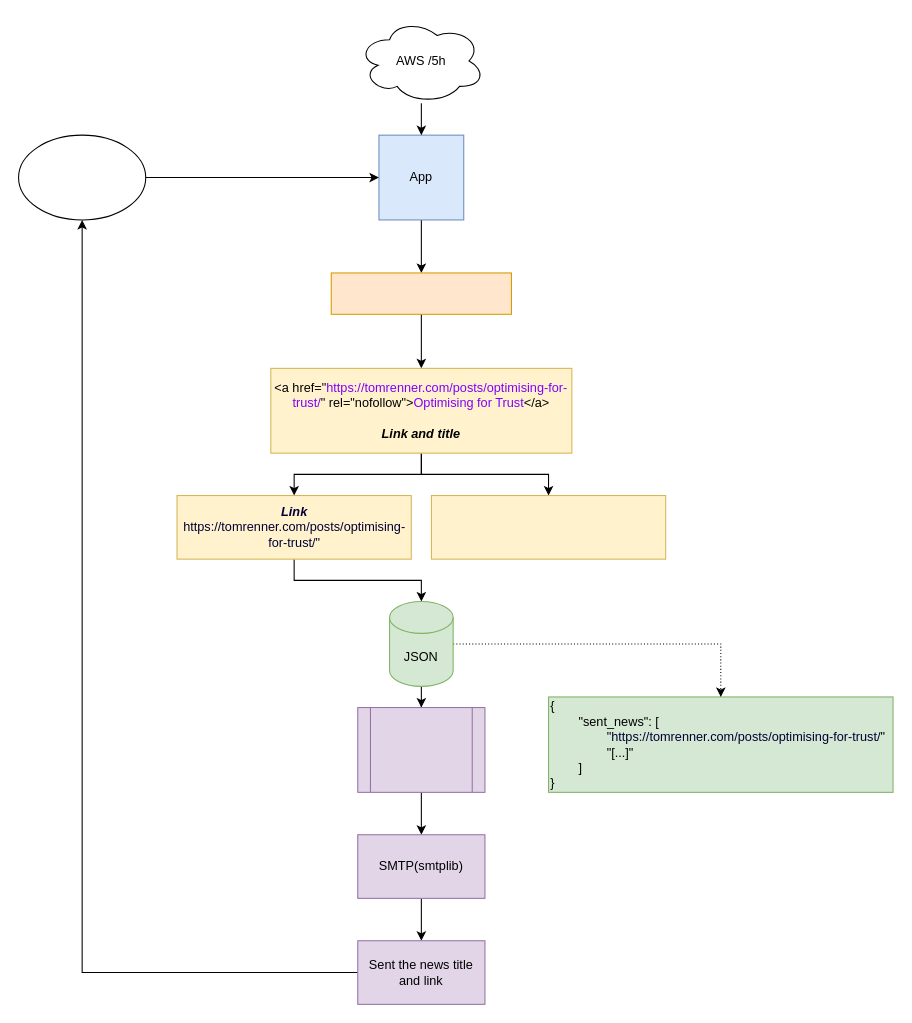
Image size: 912x1023. Some labels were removed from this diagram. The centre of each missing label's shape, as x and y in pixels:
class=" athing submission": point (420, 293)
if "News" not in "set_news": point (421, 749)
Title Optimising for Trust: point (548, 526)
User: point (81, 177)
